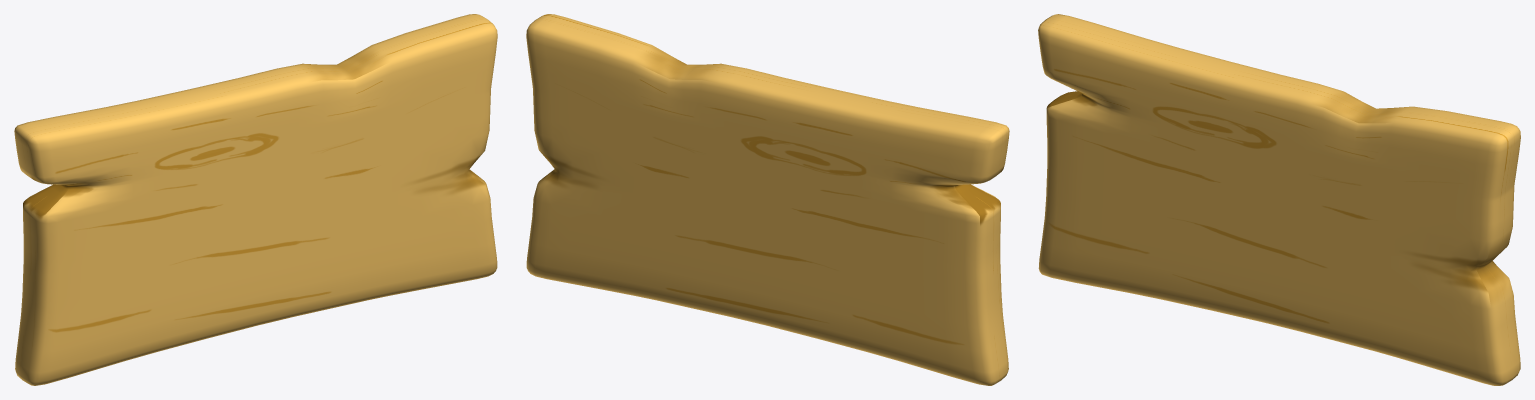
Rendered from board2.fbx.
The picture shows the model from 3 angles, left to right: view 1: azimuth 30°, elevation 25°; view 2: azimuth 150°, elevation 25°; view 3: azimuth 330°, elevation 25°; orthographic projection.
Parts seen in each view (by area): view 1: Board; view 2: Board; view 3: Board.
Part boxes in pixels (x1=…): Board: x1=14, y1=14, x2=497, y2=385; Board: x1=526, y1=14, x2=1009, y2=385; Board: x1=1038, y1=14, x2=1520, y2=385.
Bounding box in the file's own units: 2.01 × 1.04 × 0.1874.
Materials: 1 (1 with a texture image).
